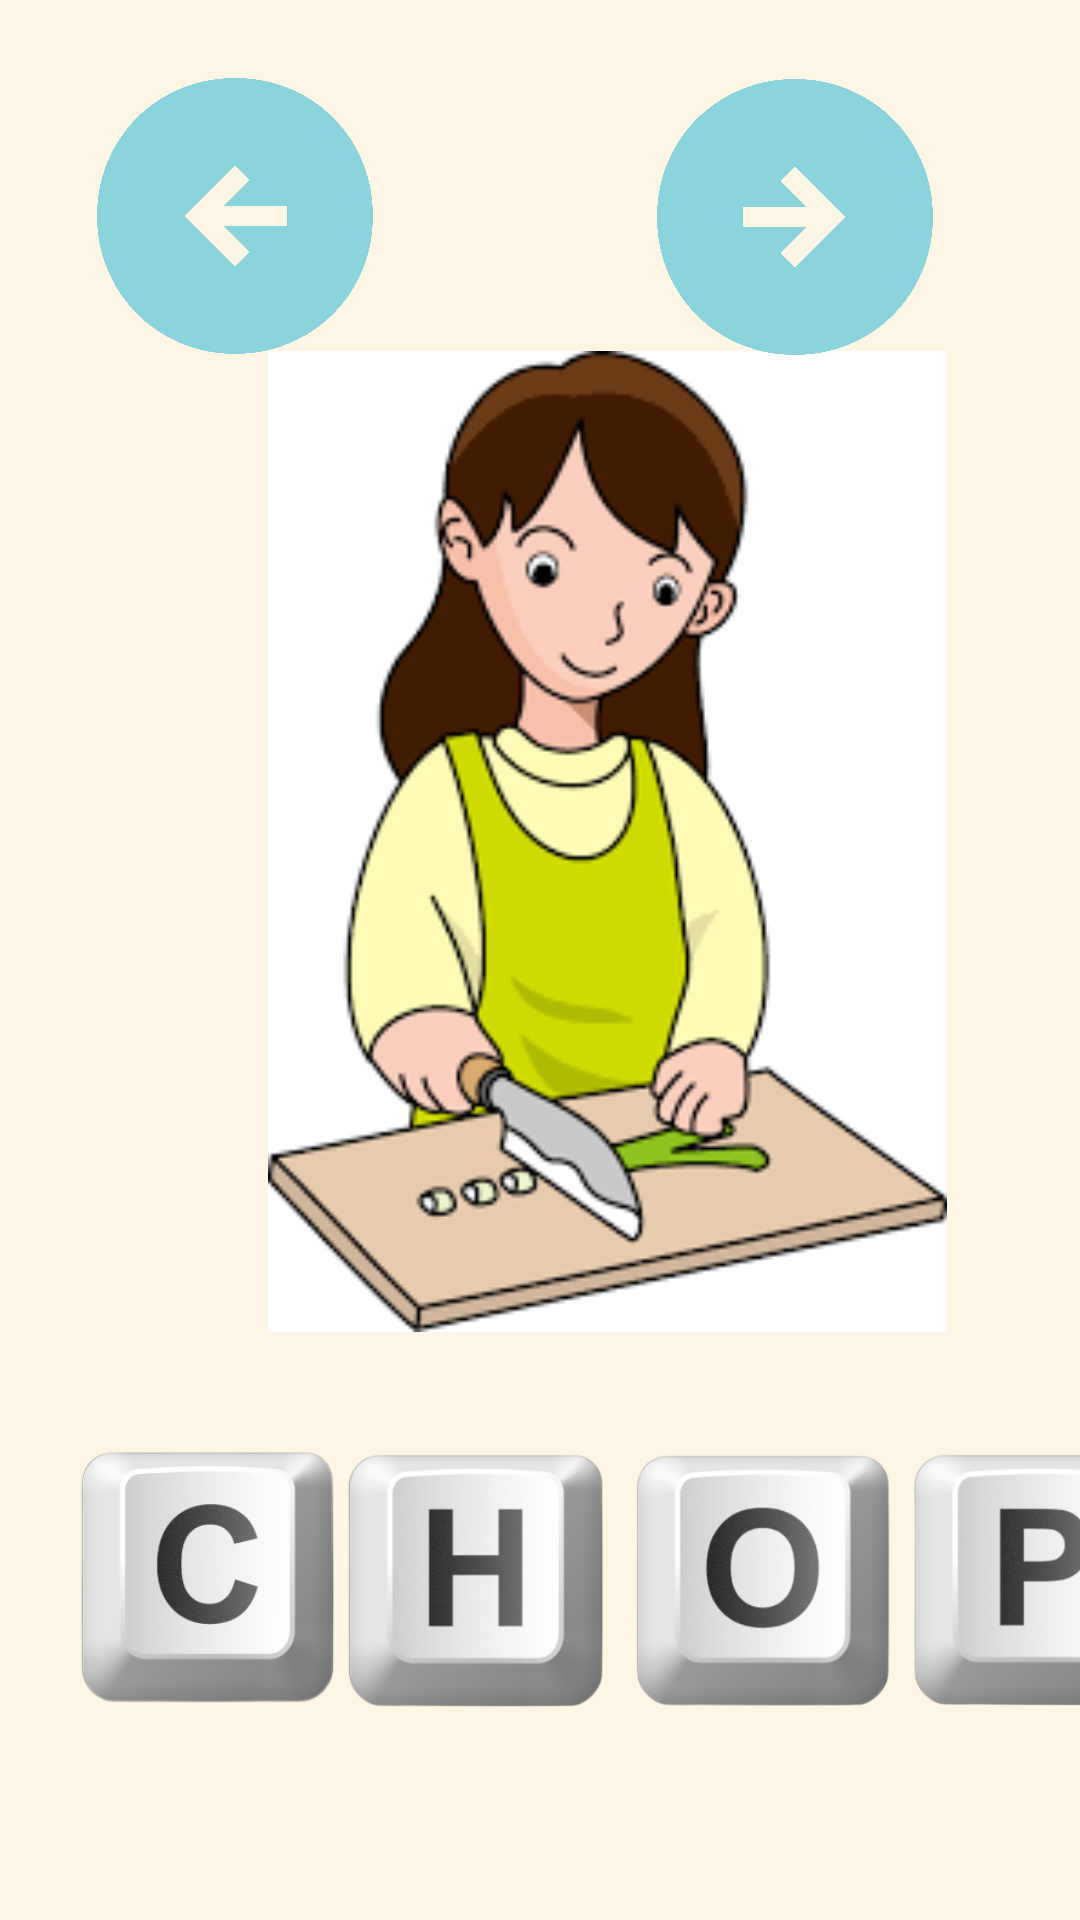

Icon bounding boxes for this 1080px x 1920px phone screenshot, format (x1=x1, y1=y1, x2=x2, y2=y2):
back: (x1=97, y1=78, x2=373, y2=354)
